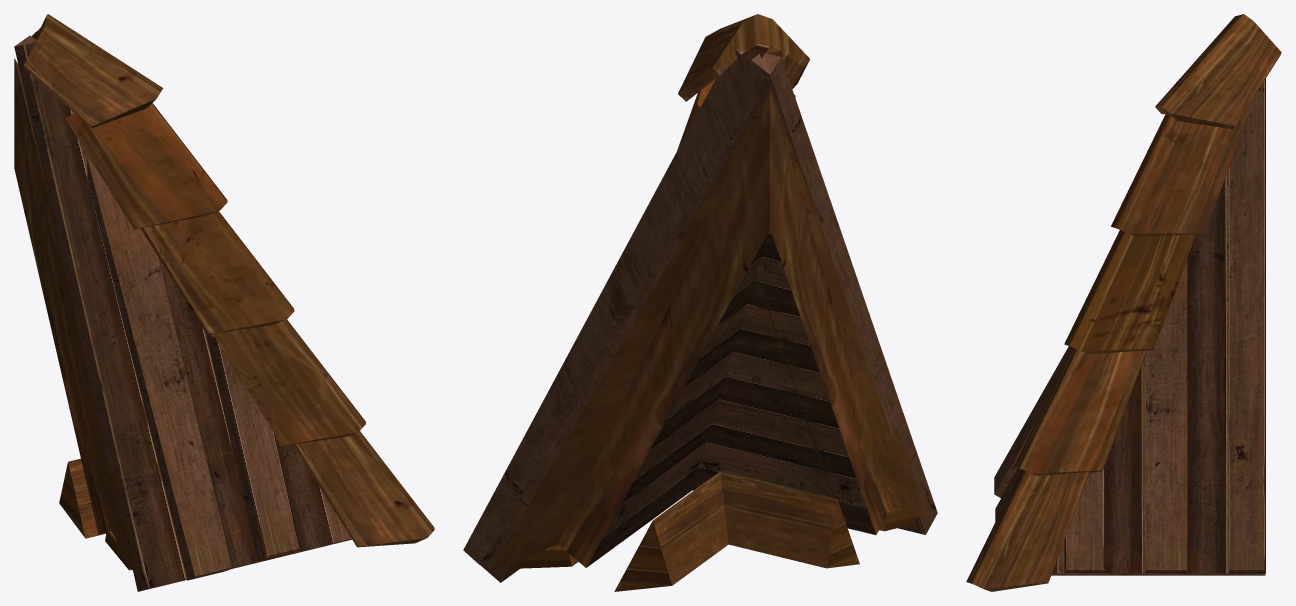
3 views of the same model, side by side, from view 1: azimuth 30°, elevation 25°; view 2: azimuth 150°, elevation 25°; view 3: azimuth 270°, elevation 25° (orthographic). The views are drawn at different scales.
Visible parts, largest first — view 1: SM_BB_T2_Roof_Med_Hip_Steep_LOD0; view 2: SM_BB_T2_Roof_Med_Hip_Steep_LOD0; view 3: SM_BB_T2_Roof_Med_Hip_Steep_LOD0.
Part boxes in pixels (x1,y1,x2,y2): SM_BB_T2_Roof_Med_Hip_Steep_LOD0: [14, 14, 434, 591]; SM_BB_T2_Roof_Med_Hip_Steep_LOD0: [463, 14, 937, 591]; SM_BB_T2_Roof_Med_Hip_Steep_LOD0: [966, 14, 1281, 591].
Size of the model in its own units: 1.47 by 2.42 by 1.47.
2 materials, 2 textured.
